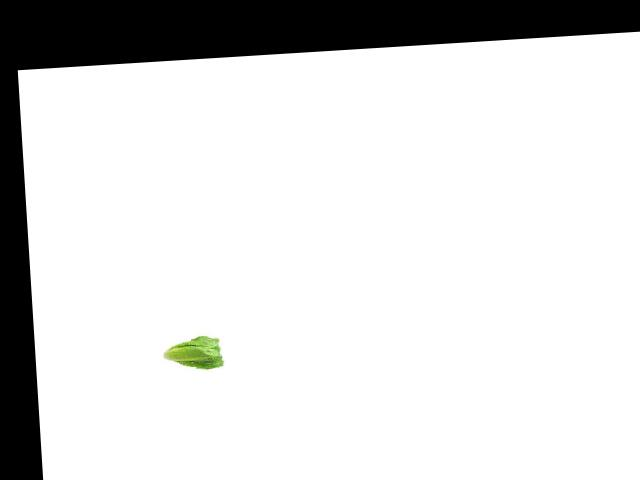lettuce: (160, 329, 226, 377)
